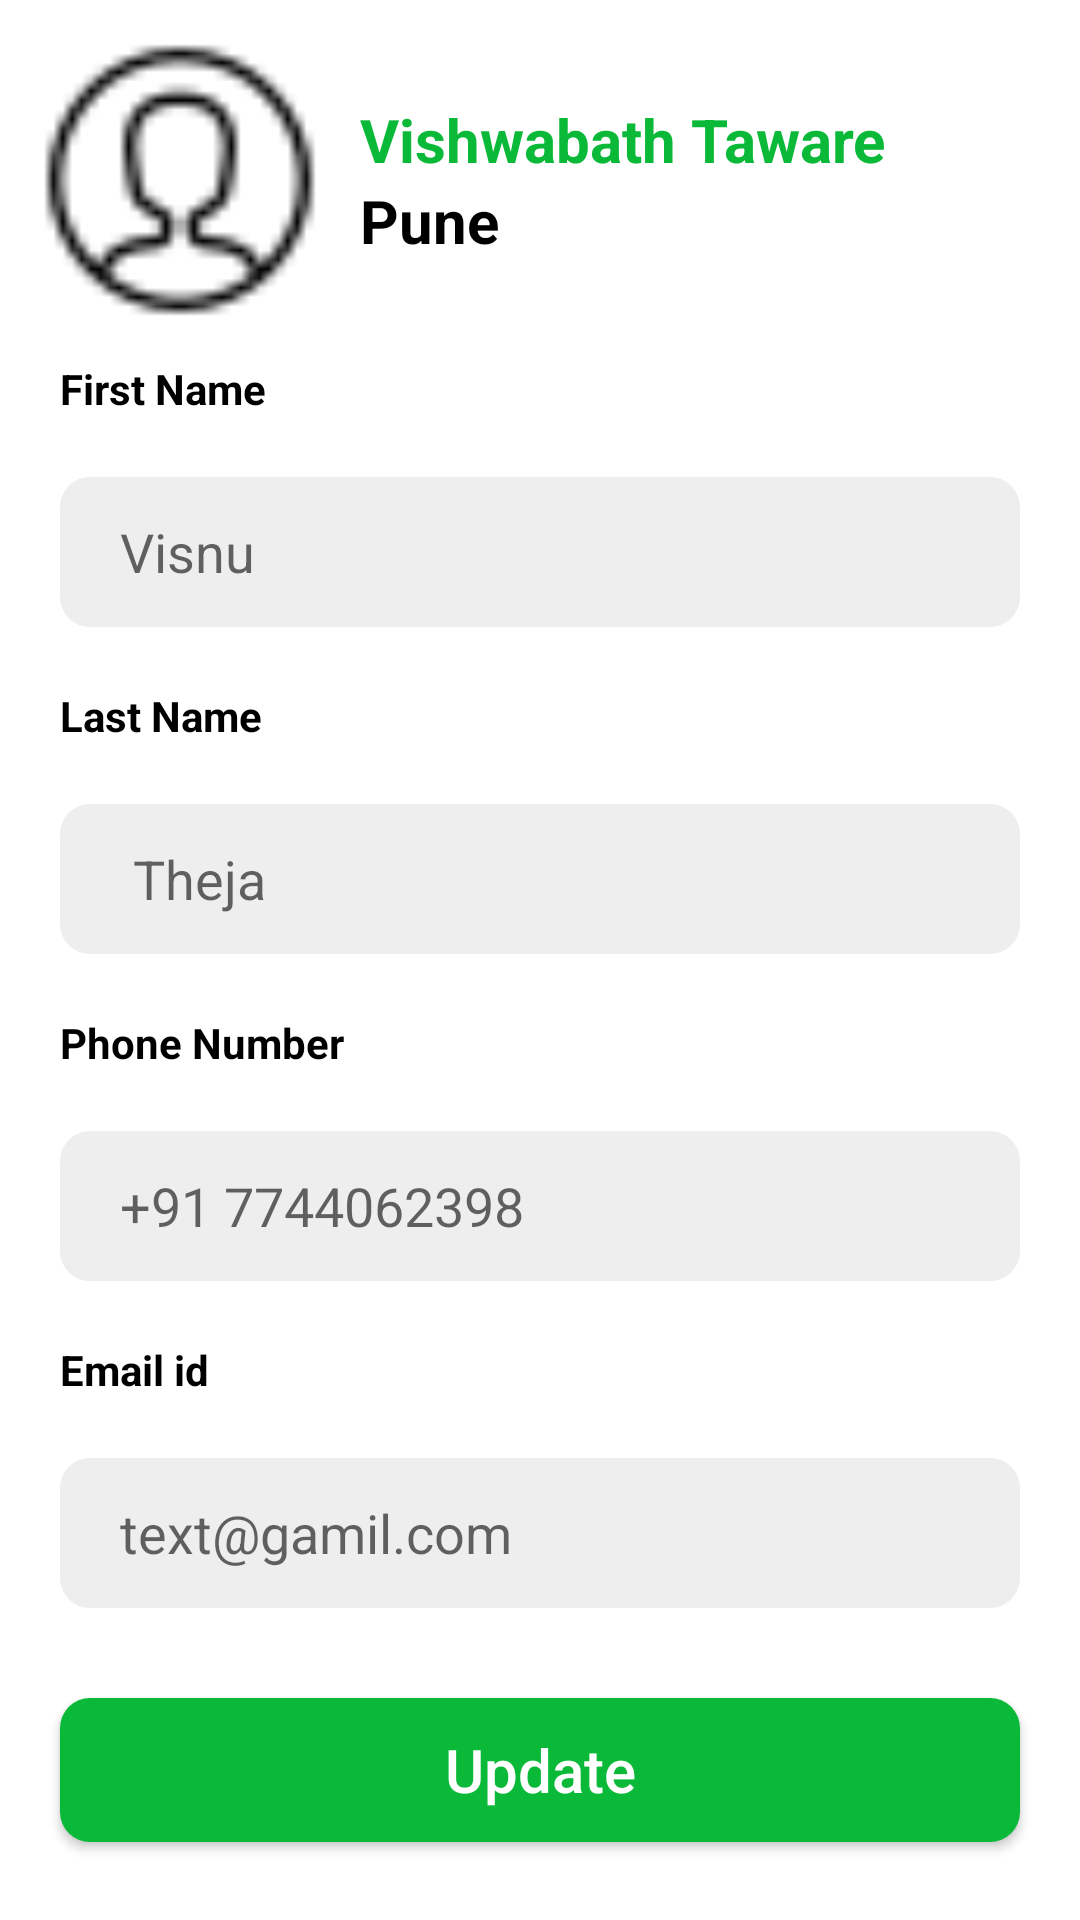

Icon click points for this 1080x1920 phone screenshot, format [x,y]:
profile: [180,180]
